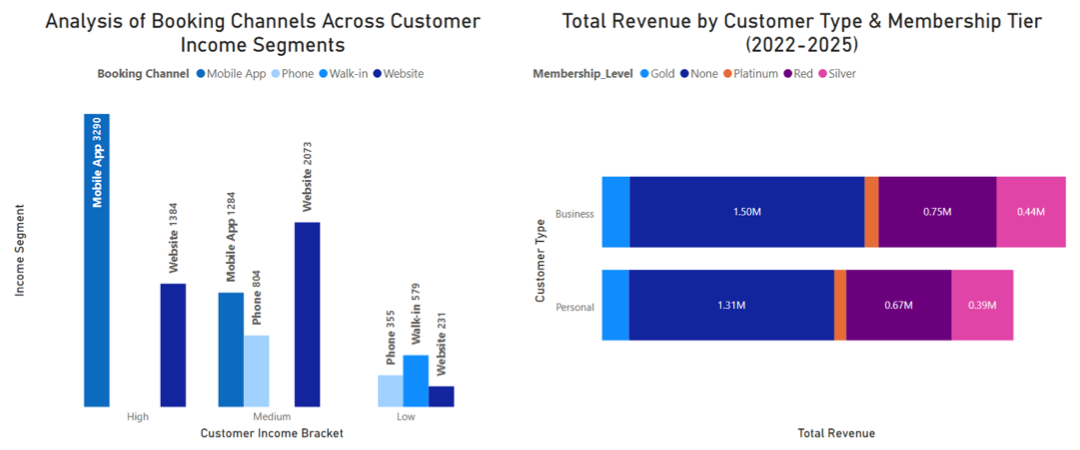

Layout of this report page (visuals, bound fields, positions):
{"tool":"powerbi","page":{"name":"Customer Behaviour","canvas":[1280,720],"ordinal":0},"visuals":[{"type":"clusteredColumnChart","title":"Analysis of Booking Channels Across Customer Income Segments","fields":{"Category":["Dataset.Customer Income Bracket"],"Series":["Dataset.Booking Channel"],"Y":["CountNonNull(Dataset.CustomerID)"]},"box":[23.7,82.9,593.4,506.6],"z":0},{"type":"barChart","title":"Total Revenue by Customer Type & Membership Tier (2022-2025)","fields":{"Category":["Dataset.Customer_Type"],"Y":["Sum(Dataset.Revenue)"],"Series":["Dataset.Membership_Level"]},"box":[630.3,82.9,636.8,506.6],"z":1000}]}

Visuals, with their boxes on the page's 1280x720 design canvas (x1, y1, x2, y2). These are canvas units, not pixel positions in the 1080x450 screenshot, which may show the page scaled, cropped or inside an application window:
"Analysis of Booking Channels Across Customer Income Segments" clusteredColumnChart: <region>24, 83, 617, 590</region>
"Total Revenue by Customer Type & Membership Tier (2022-2025)" barChart: <region>630, 83, 1267, 590</region>
